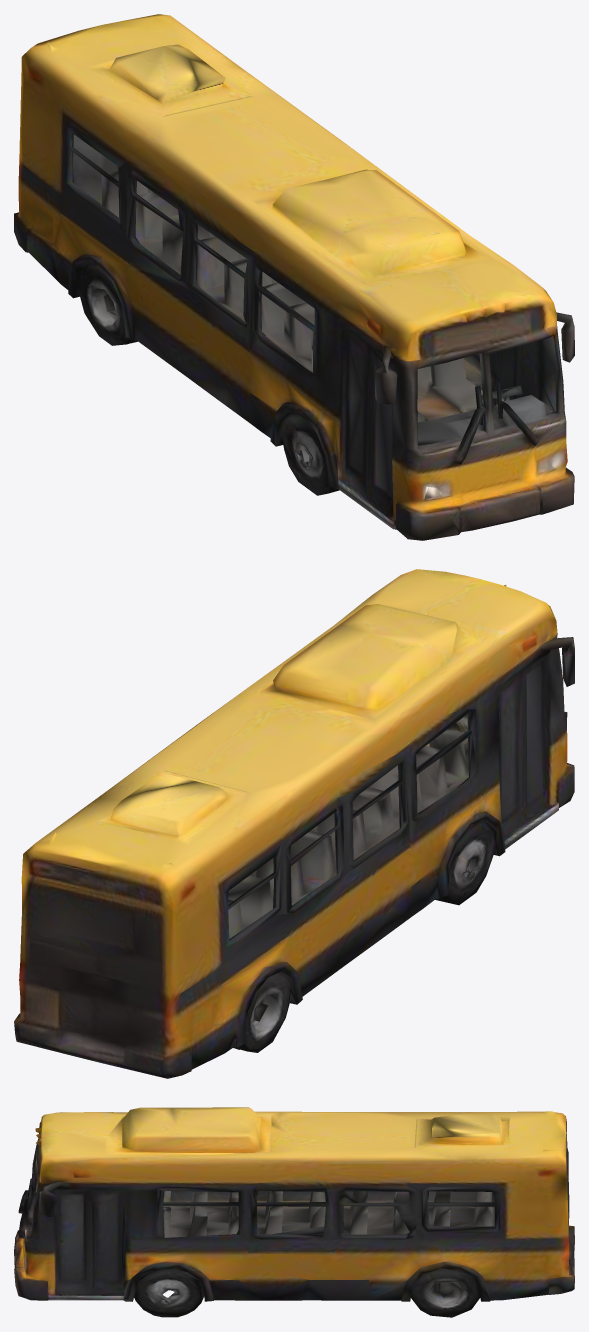
The model's file is bus.glb.
The picture shows the model from 3 angles, top to bottom: view 1: azimuth 30°, elevation 25°; view 2: azimuth 150°, elevation 25°; view 3: azimuth 270°, elevation 25°; orthographic projection. The views are drawn at different scales.
Visible parts, largest first — view 1: body; view 2: body; view 3: body.
Boxes of the visible parts, x1,y1,x2,y2 form: body: (14,14,574,540); body: (14,569,574,1078); body: (14,1107,574,1317).
Bounding box in the file's own units: 2.5 × 3 × 9.
Materials: 1 (1 with a texture image).
